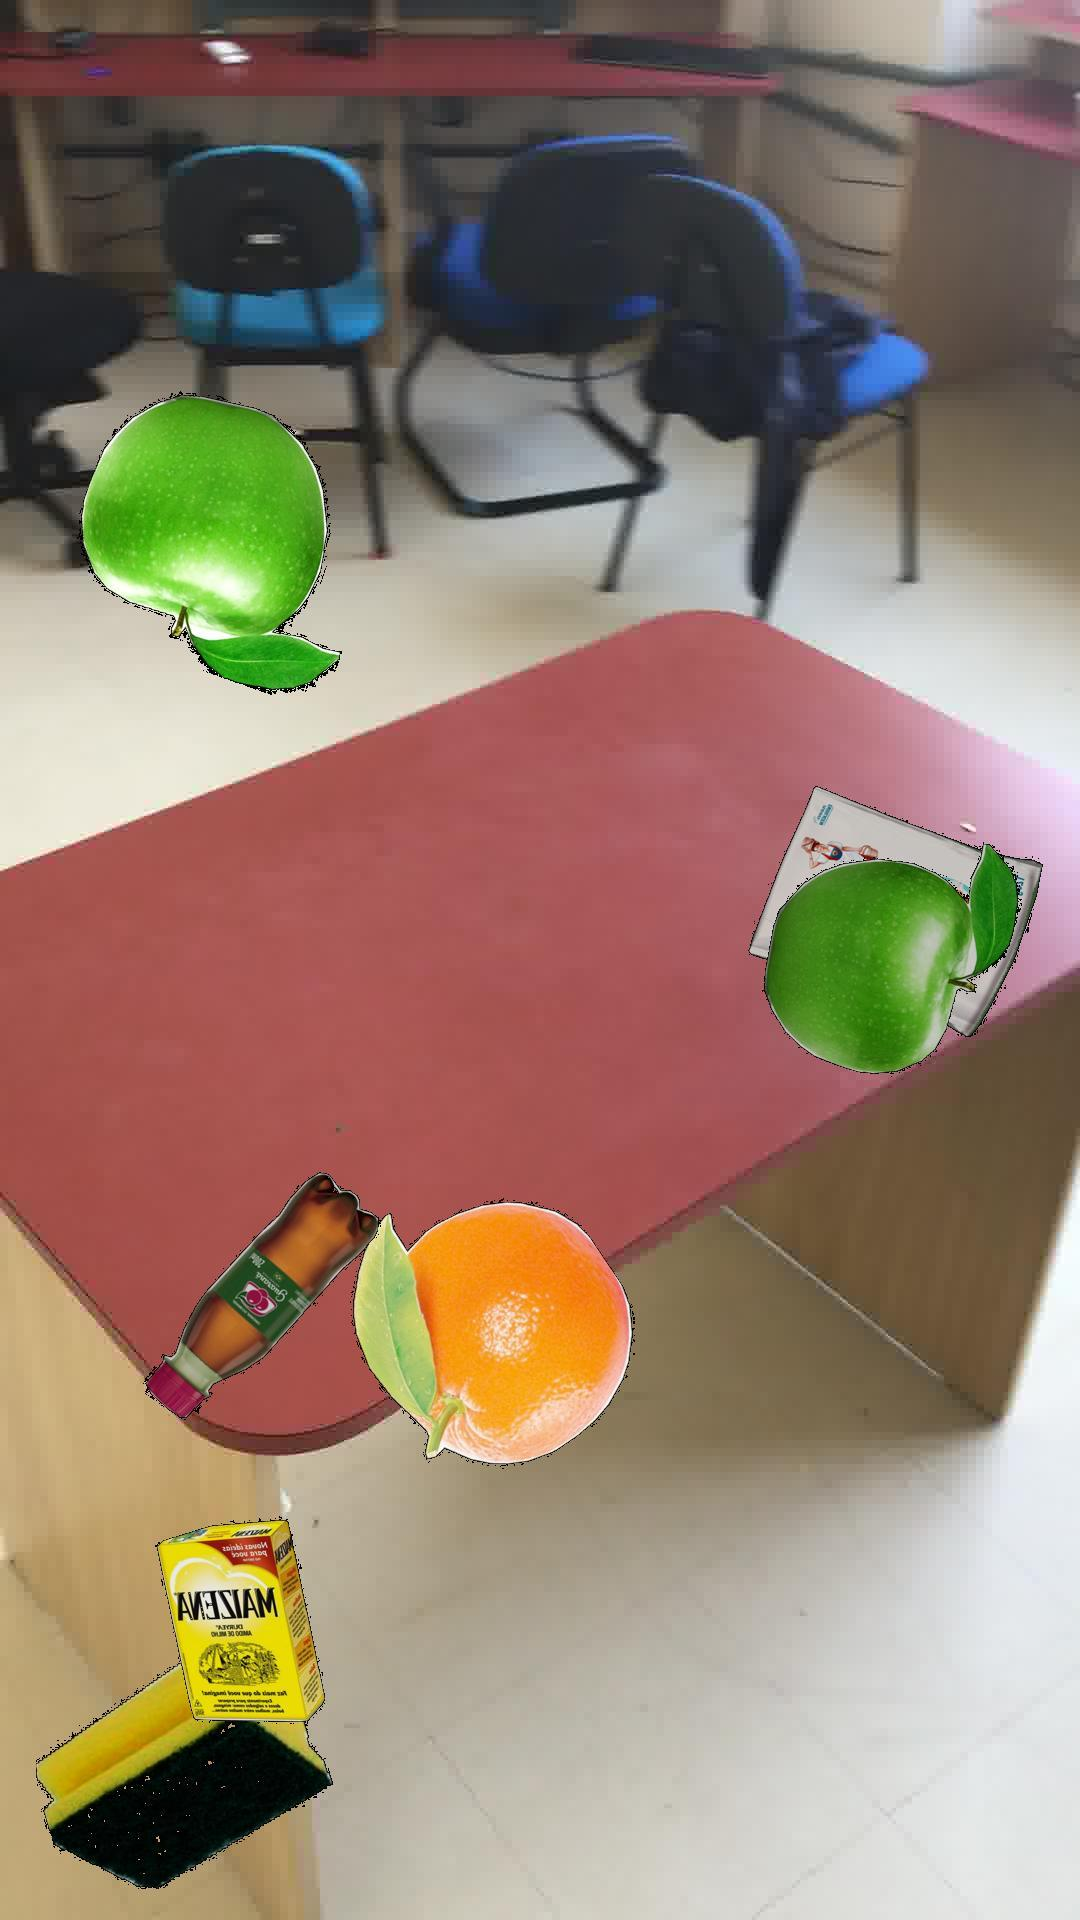corn flakes: (746, 785, 1042, 1035)
green apple: (78, 389, 340, 694), (761, 841, 1019, 1072)
guarana: (142, 1171, 380, 1418)
orange: (352, 1196, 633, 1465)
sponge: (34, 1662, 331, 1887)
